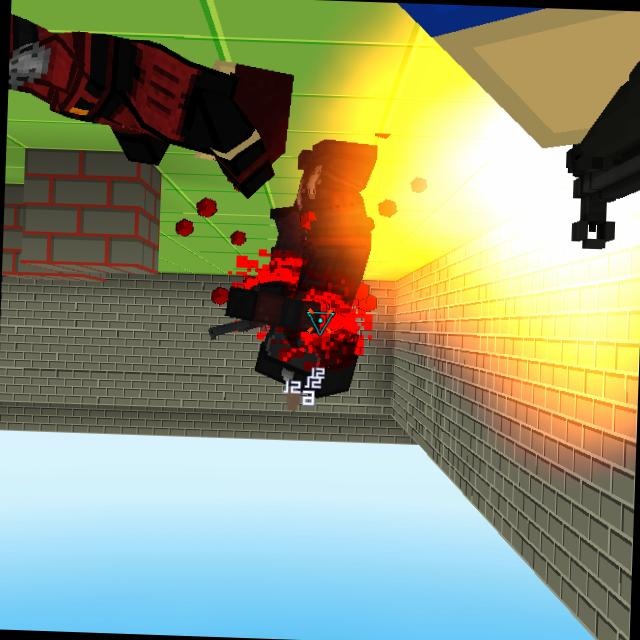enemy: (205, 129, 386, 410)
